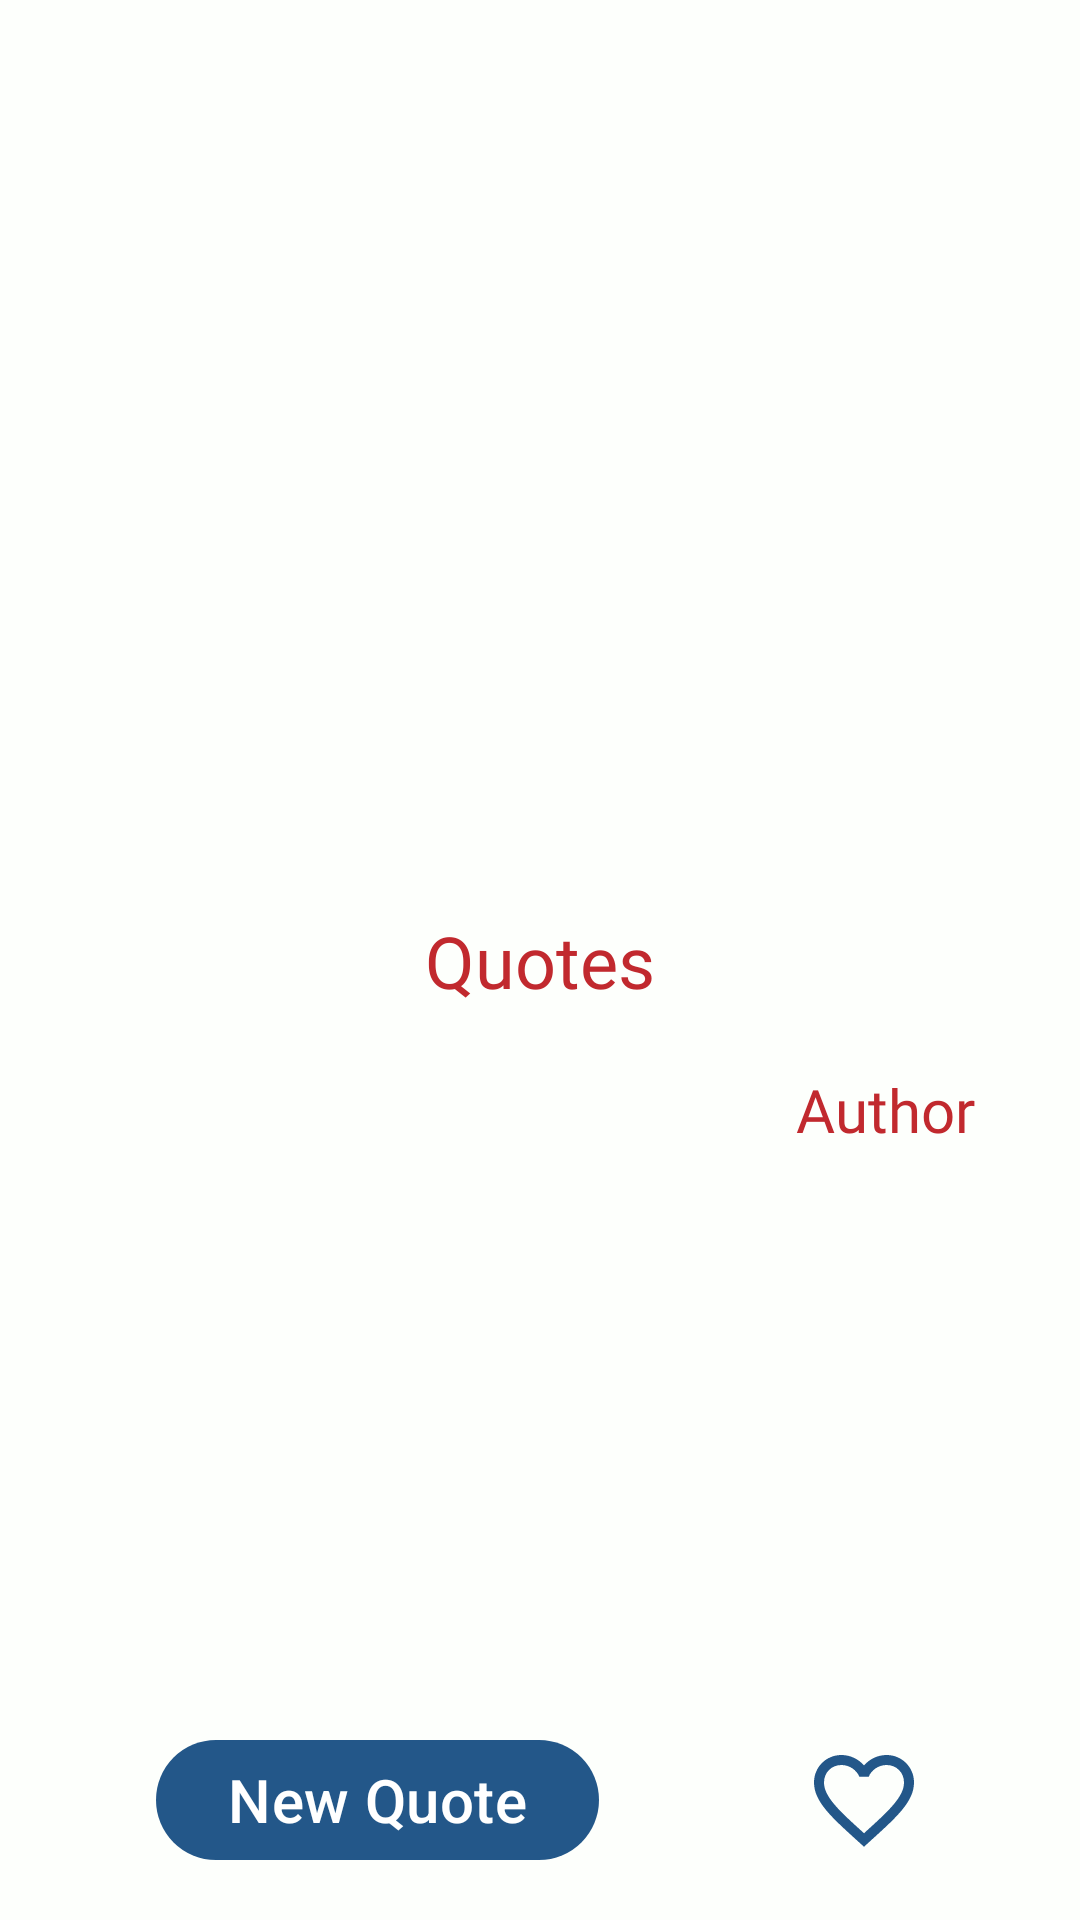

Locate icon controls on the screen. Image size 1080x1920, boxes as (x1, y1, x2, y2).
Add Favorites: (814, 1755, 914, 1847)
